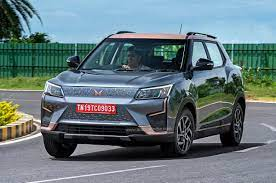XUV 400: (39, 27, 247, 162)
